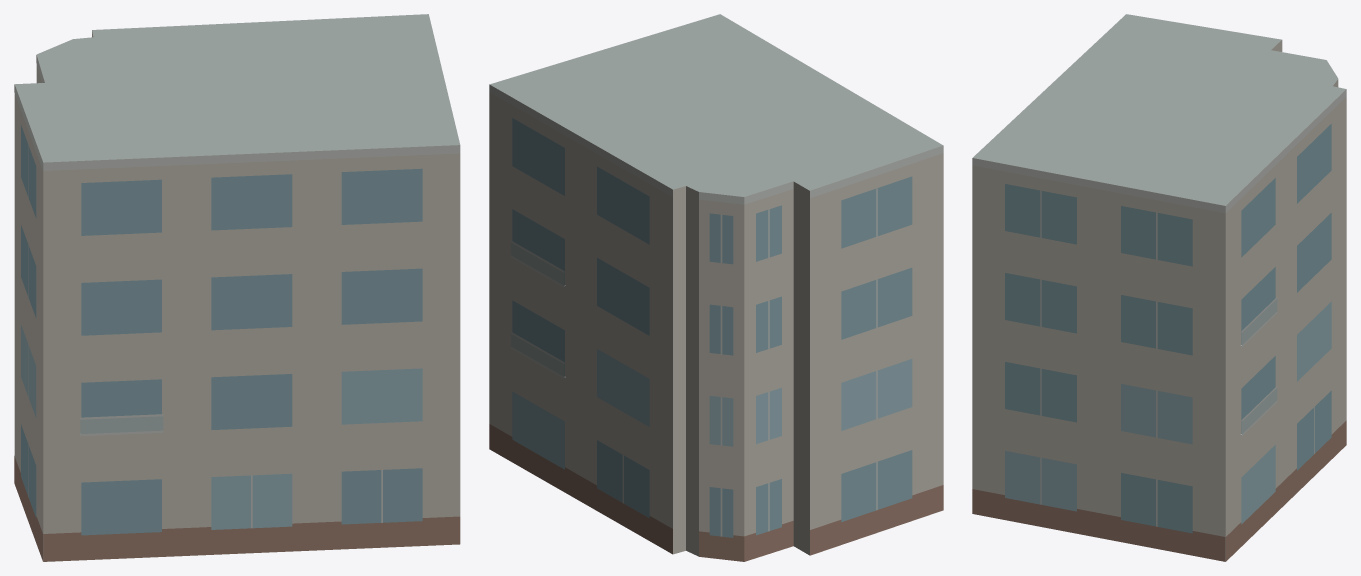
Rendered from survey-upis-32667296.glb.
3 views of the same model, side by side, from view 1: azimuth 30°, elevation 25°; view 2: azimuth 150°, elevation 25°; view 3: azimuth 270°, elevation 25° (orthographic). The views are drawn at different scales.
Visible parts, largest first — view 1: survey-upis-32667296.tmp; view 2: survey-upis-32667296.tmp; view 3: survey-upis-32667296.tmp.
Boxes of the visible parts, x1,y1,x2,y2 form: survey-upis-32667296.tmp: (14,14,460,561); survey-upis-32667296.tmp: (489,14,943,561); survey-upis-32667296.tmp: (972,14,1346,561).
Bounding box in the file's own units: 13.54 × 11.7 × 11.16.
